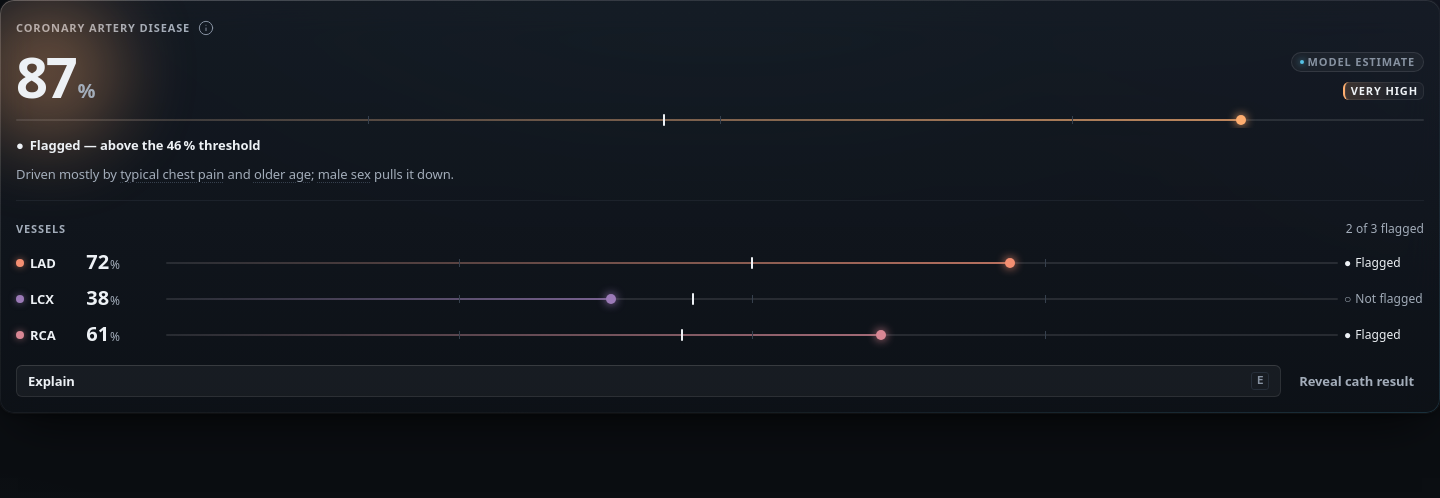
Test: Risk summary card (WORKSTATION_V2 §5.8) › reveals the cath result for a TEST patient and counts agreement against the recorded inputs
Click the button "Reveal cath result": [1357, 381] box [1289,365,1424,397]
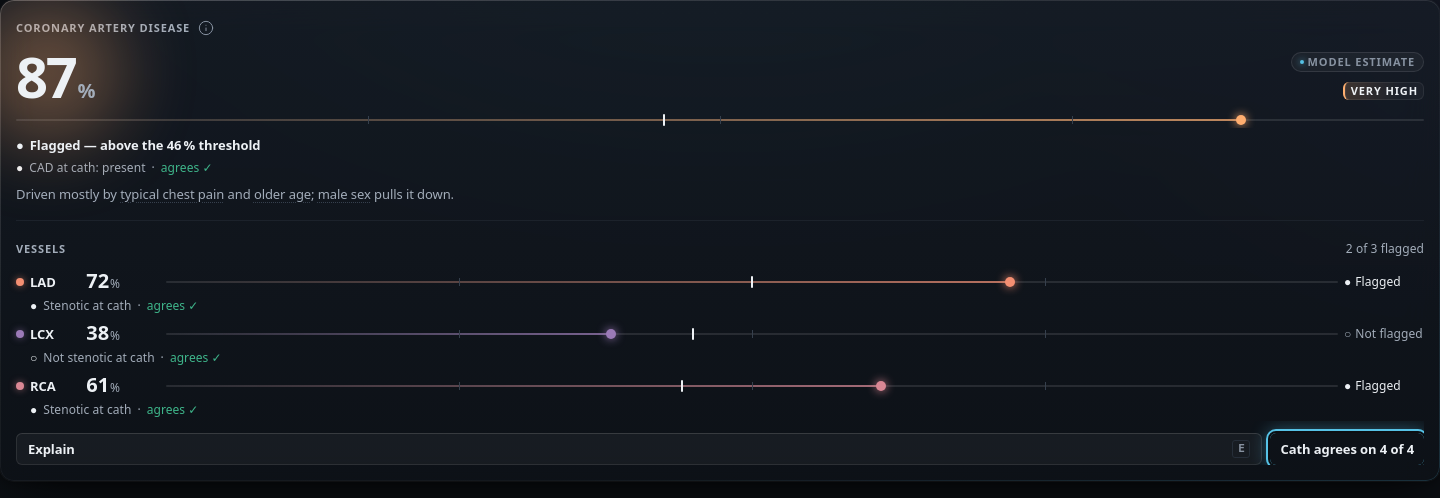
expect the button "Cath agrees on 4 of 4" is shown: met, box [1270,433,1424,465]
